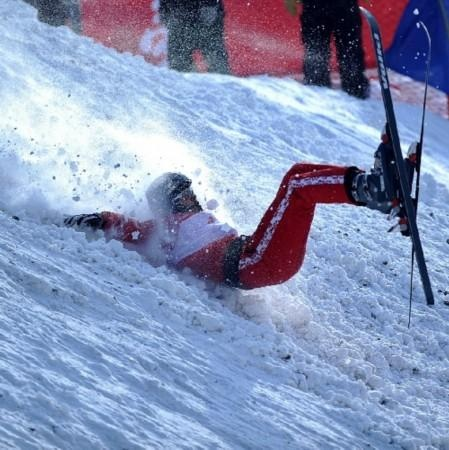falling: (46, 95, 441, 311)
